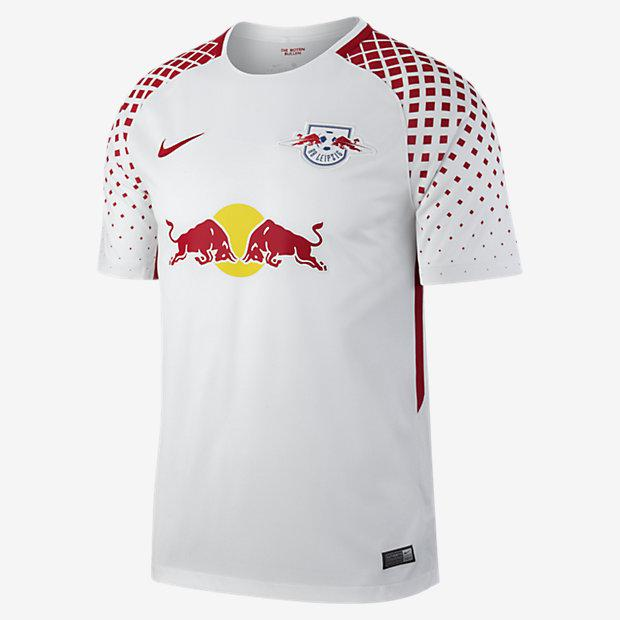teeshirt: (75, 10, 533, 602)
